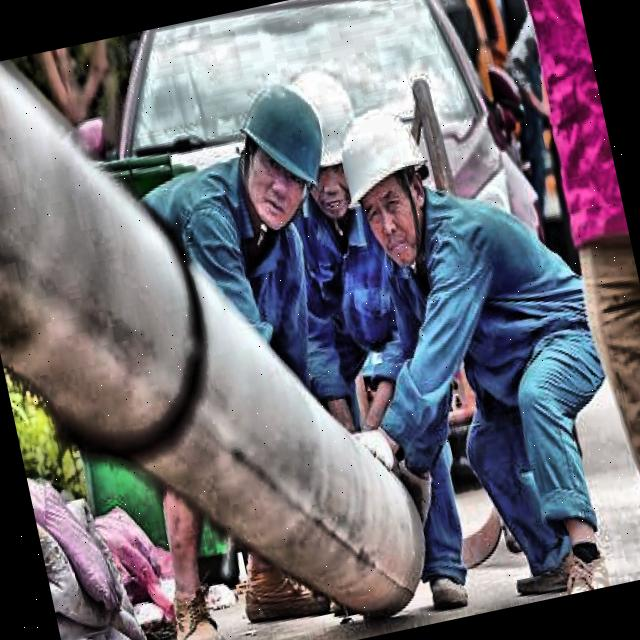helmet: (216, 60, 352, 244), (328, 94, 450, 268), (275, 53, 371, 225)
